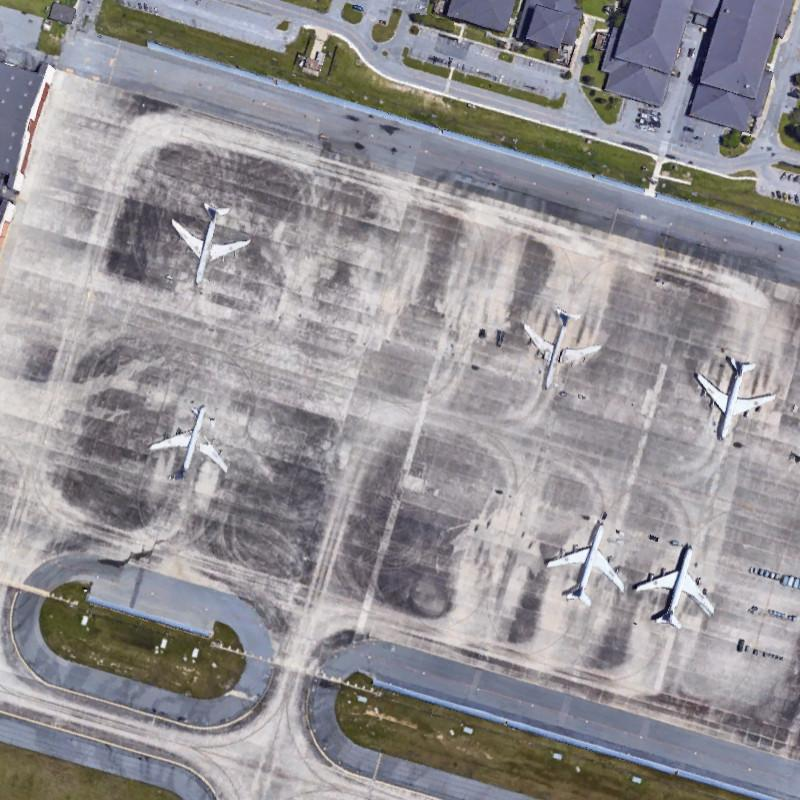A11: (160, 196, 258, 294), (512, 295, 604, 399), (688, 342, 775, 449), (534, 513, 625, 611), (630, 533, 717, 632), (146, 387, 230, 487)
